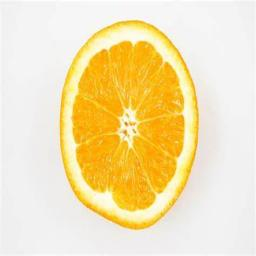orange: (43, 14, 205, 235)
